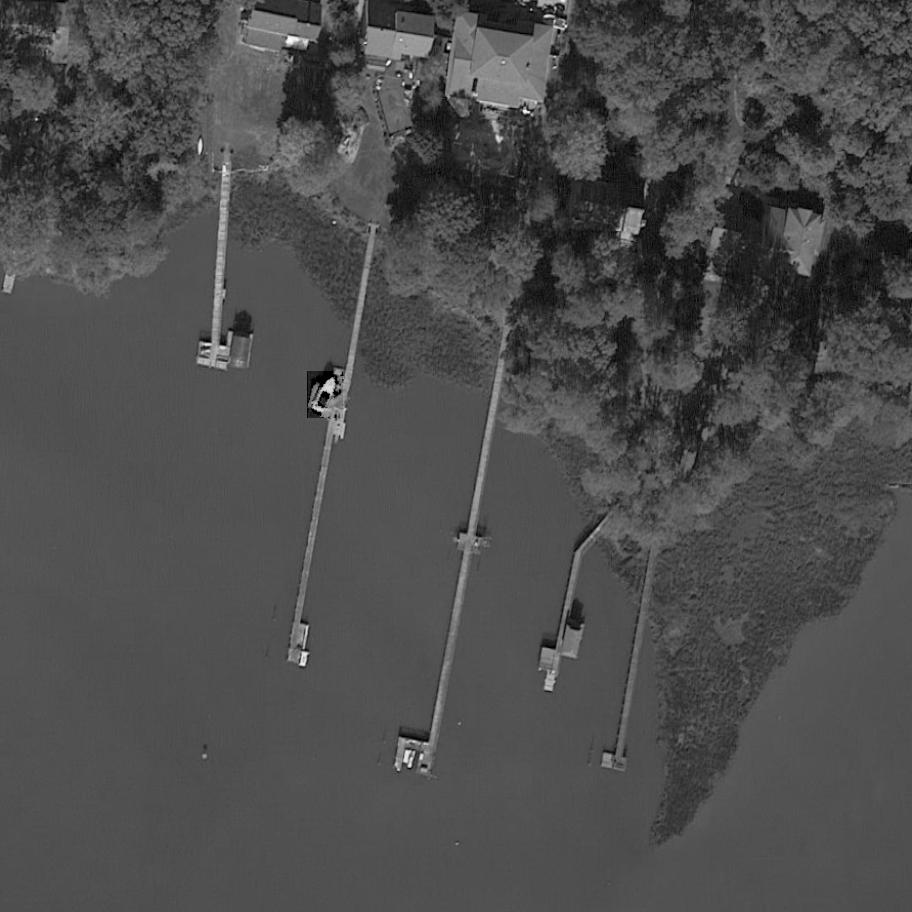ship: (308, 372, 345, 419)
